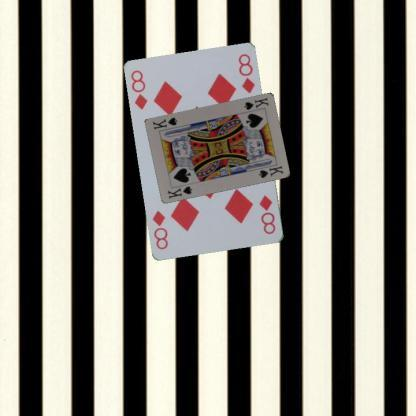8d: (257, 192, 278, 236), (128, 68, 149, 112)
Ks: (165, 183, 194, 200), (241, 95, 270, 111)
